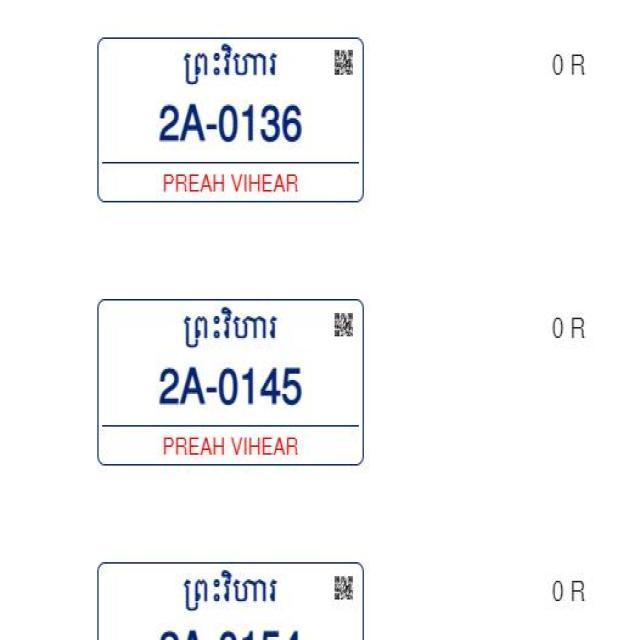Preah_Vihear: (183, 301, 279, 356), (175, 41, 280, 88), (183, 570, 279, 614)
